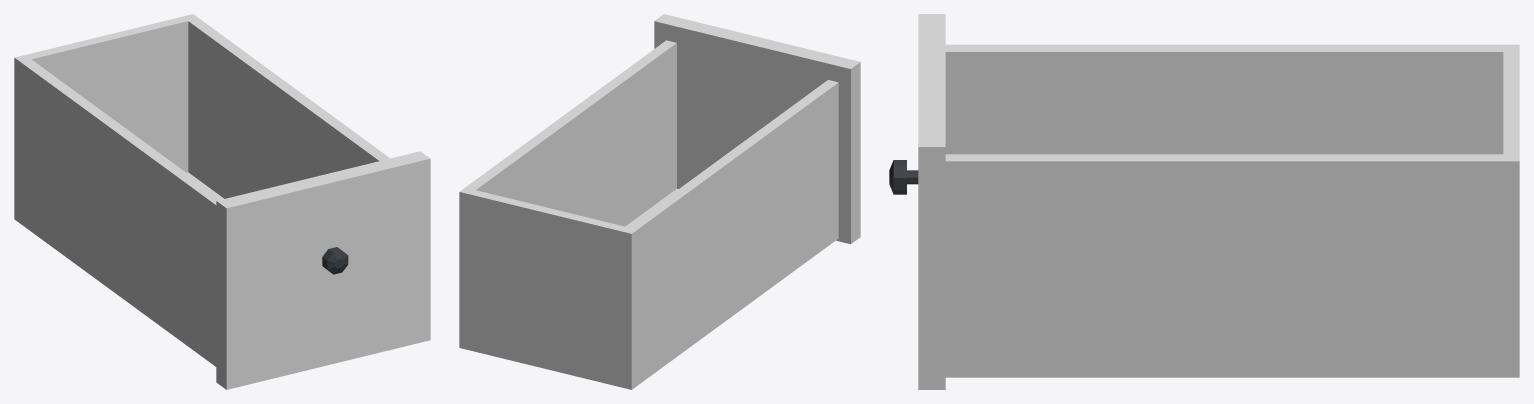
Rendered from Door3_C1_07.fbx.
3 renders of one model, left to right at view 1: azimuth 30°, elevation 25°; view 2: azimuth 150°, elevation 25°; view 3: azimuth 270°, elevation 25°, orthographic. The views are drawn at different scales.
Parts seen in each view (by area): view 1: Door3_C1_07; view 2: Door3_C1_07; view 3: Door3_C1_07.
Boxes of the visible parts, box(x1,y1,x2,y2) form: Door3_C1_07: box(14, 14, 430, 389); Door3_C1_07: box(459, 14, 860, 389); Door3_C1_07: box(889, 14, 1519, 389).
Bounding box in the file's own units: 29 × 24.68 × 58.03.
